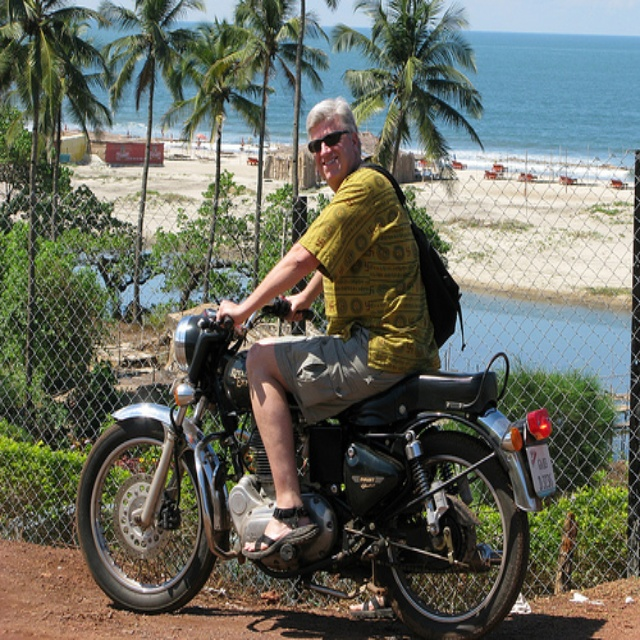Motorcycle: (74, 299, 556, 640)
